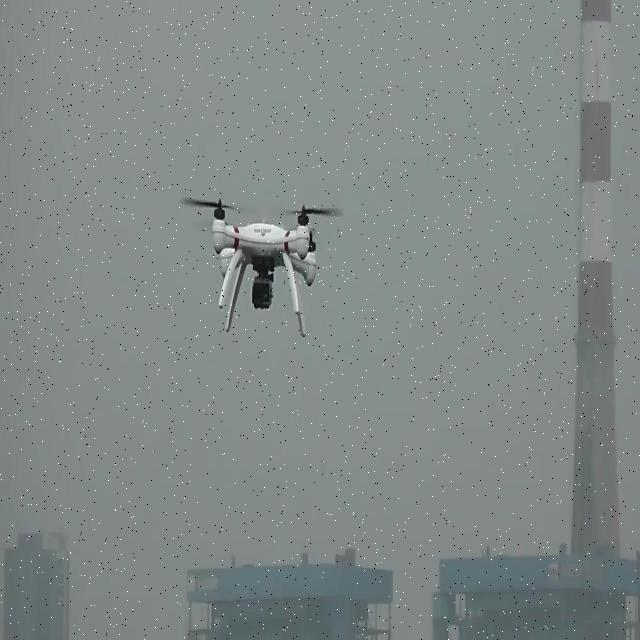UAV: (198, 191, 330, 338)
